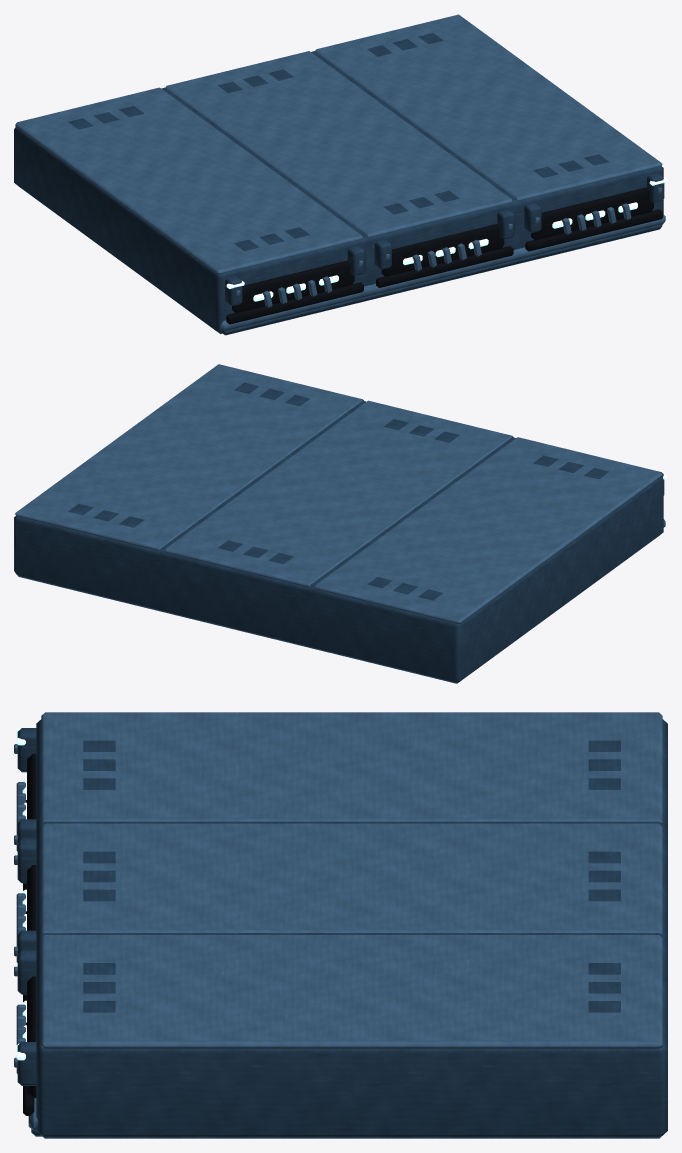
File: frozen_reactor_deck.glb
3 views of the same model, one above another, from view 1: azimuth 30°, elevation 25°; view 2: azimuth 150°, elevation 25°; view 3: azimuth 270°, elevation 25° (orthographic). The views are drawn at different scales.
Parts seen in each view (by area): view 1: frozen_reactor_deck - frozen_reactor trim, frozen_reactor_deck - frozen_reactor panels, frozen_reactor_deck - Recessed iron, frozen_reactor_deck - frozen_reactor accents; view 2: frozen_reactor_deck - frozen_reactor trim, frozen_reactor_deck - frozen_reactor panels; view 3: frozen_reactor_deck - frozen_reactor trim, frozen_reactor_deck - frozen_reactor panels, frozen_reactor_deck - Recessed iron.
Part boxes in pixels (x1,y1,x2,y2): frozen_reactor_deck - frozen_reactor trim: (15, 14, 665, 331); frozen_reactor_deck - frozen_reactor panels: (14, 33, 664, 335); frozen_reactor_deck - Recessed iron: (226, 187, 663, 324); frozen_reactor_deck - frozen_reactor accents: (226, 177, 667, 301); frozen_reactor_deck - frozen_reactor trim: (15, 364, 665, 624); frozen_reactor_deck - frozen_reactor panels: (14, 382, 664, 683); frozen_reactor_deck - frozen_reactor trim: (14, 712, 662, 1130); frozen_reactor_deck - frozen_reactor panels: (17, 719, 667, 1138); frozen_reactor_deck - Recessed iron: (23, 753, 36, 1115).
Bounding box in the file's own units: 5.99 × 0.8325 × 4.97.
Materials: 4 (3 with a texture image).
